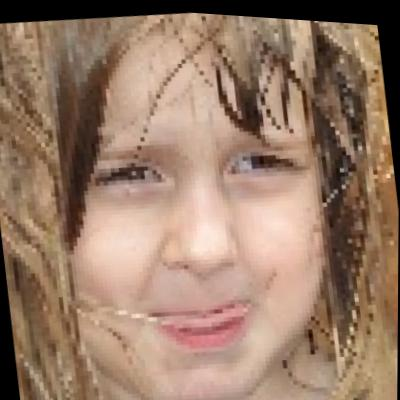sad: (56, 52, 331, 400)
